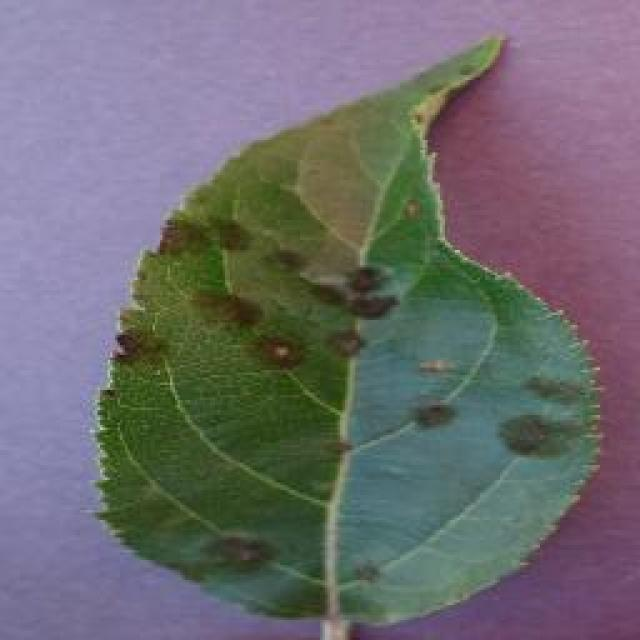apple scab disease: (90, 30, 605, 638)
